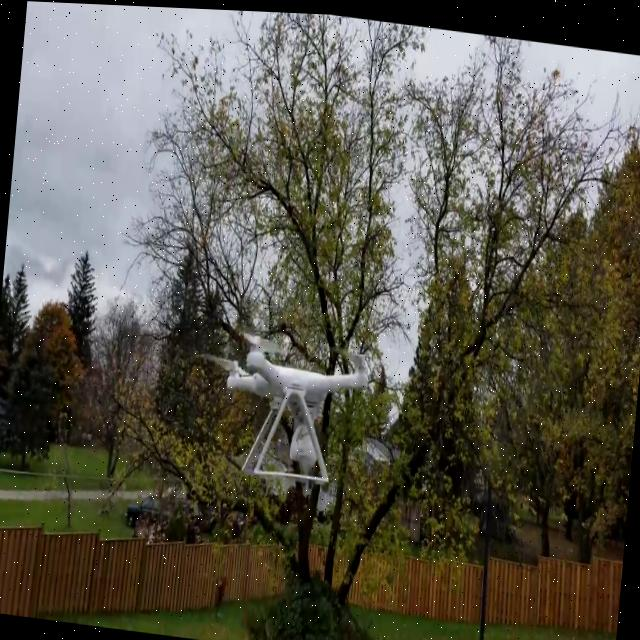drone: (194, 307, 396, 466)
